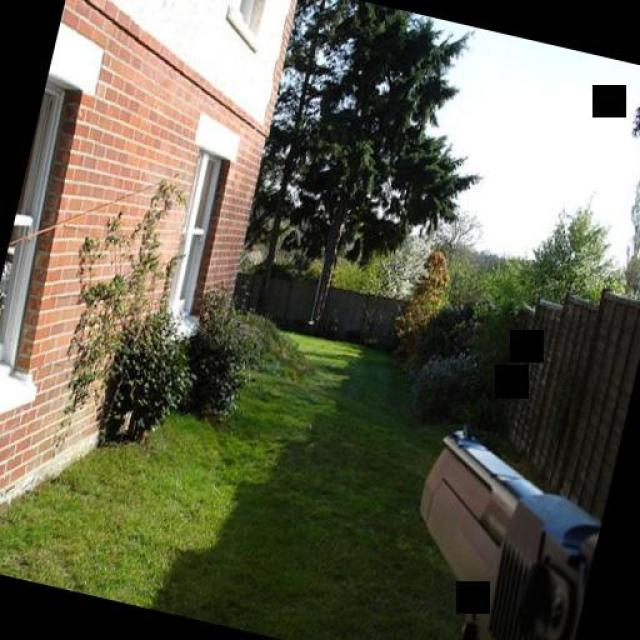gun: (378, 411, 612, 640)
